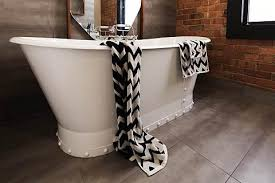bathub: (7, 28, 208, 165)
